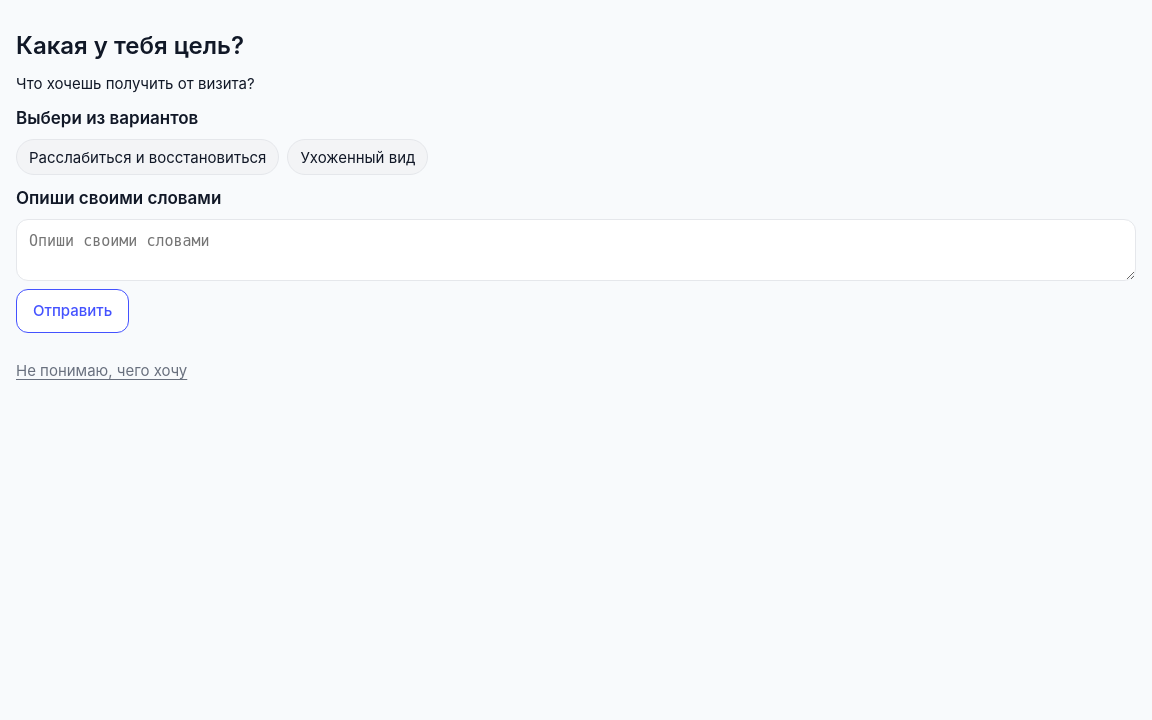
GoalSelectScreen (dumb renderer over the decision document) › успех сохранения объявляется — и до нажатия объявления НЕТ
Type "Хочу спать лучше" into the text box labelled "Опиши своими словами" at (576, 250), box [16, 219, 1136, 281]
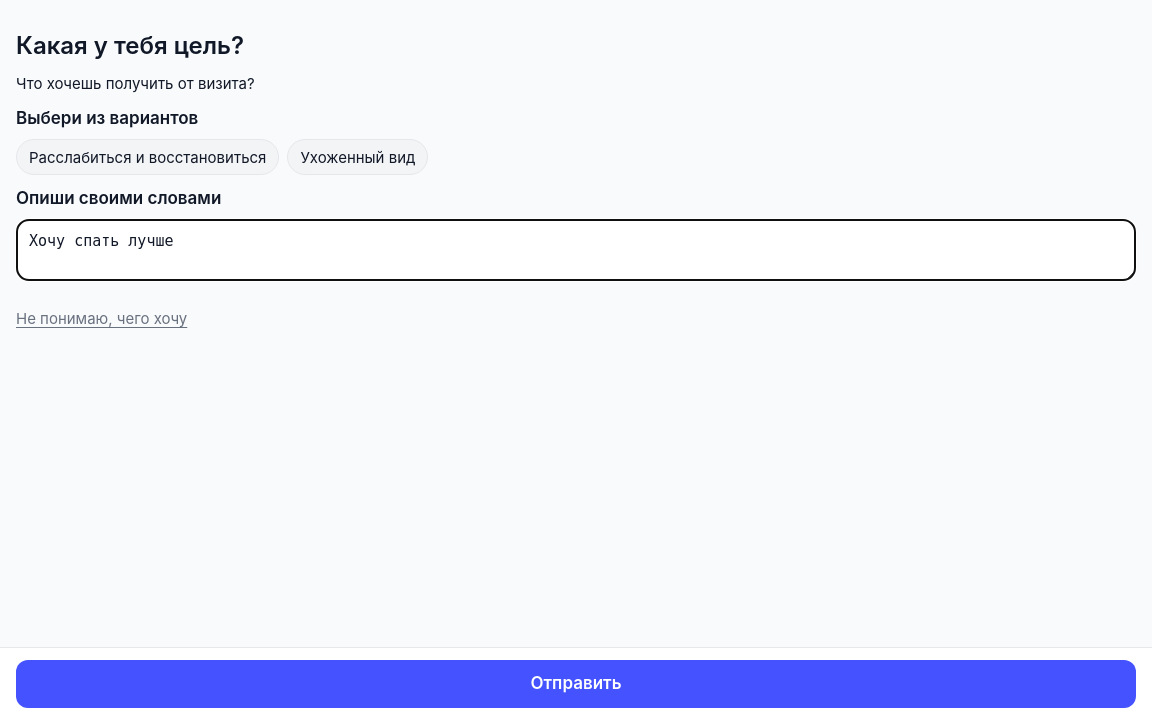
Click the button "Отправить" at (576, 684), box [16, 660, 1136, 708]
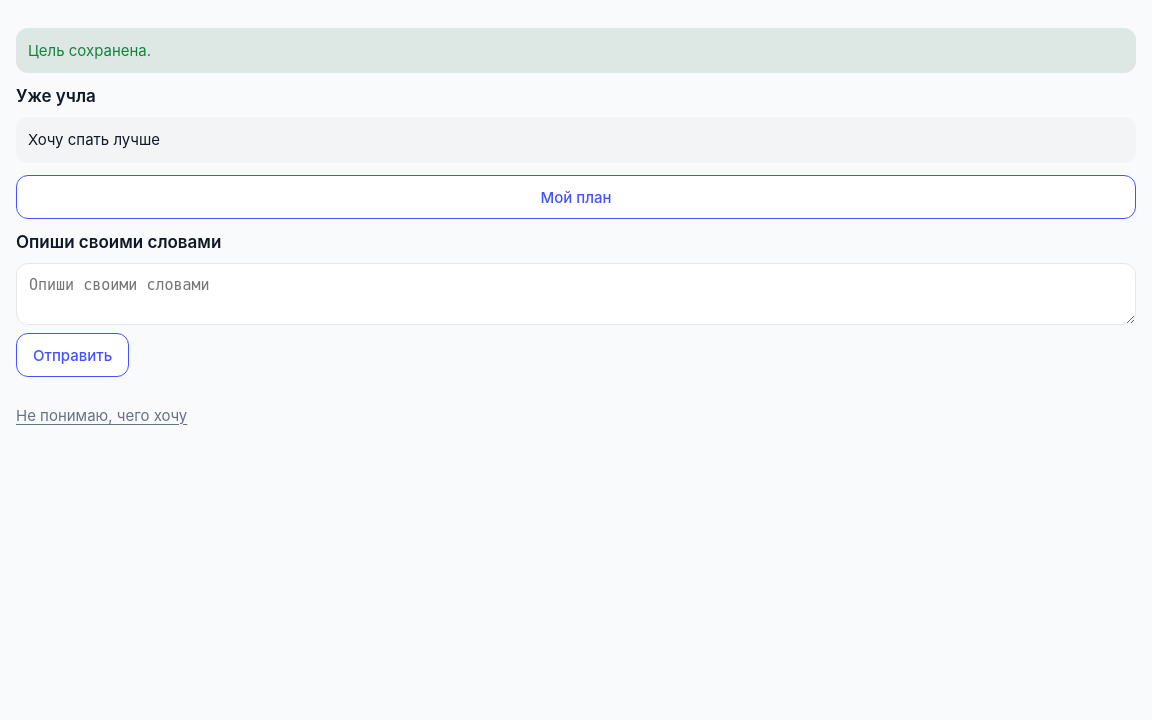
Now the message reads "Цель сохранена.", box [28, 41, 151, 60]
